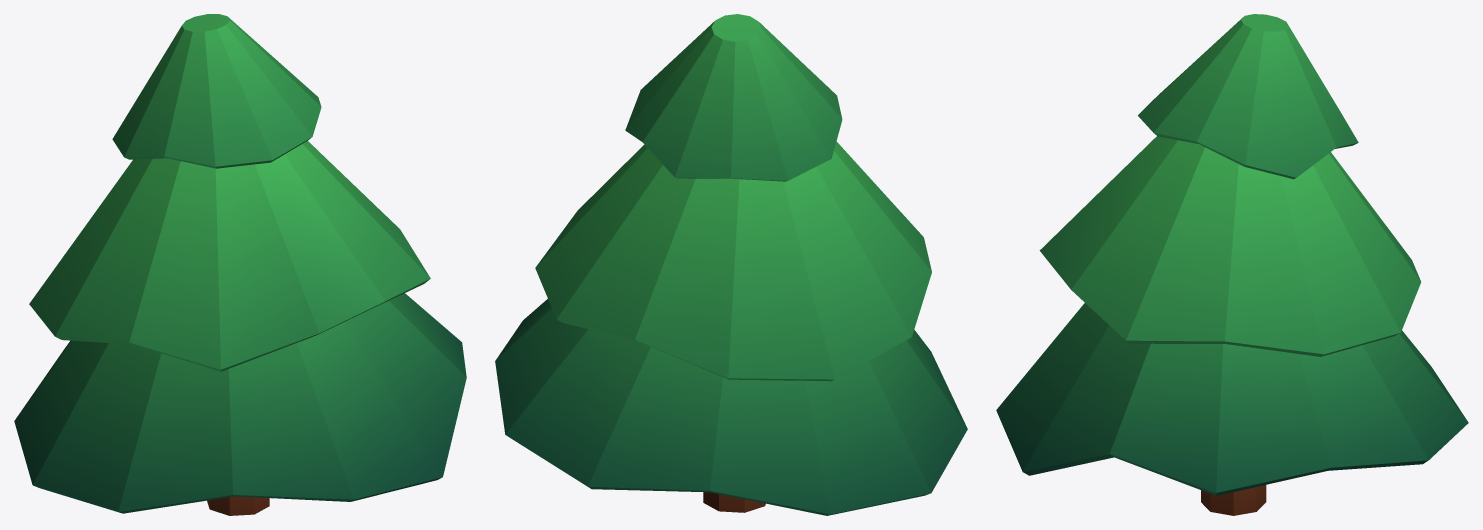
File: pohon 1.fbx
3 renders of one model, left to right at view 1: azimuth 30°, elevation 25°; view 2: azimuth 150°, elevation 25°; view 3: azimuth 270°, elevation 25°, orthographic. The views are drawn at different scales.
Visible parts, largest first — view 1: pohon 1; view 2: pohon 1; view 3: pohon 1.
Part boxes in pixels (x1,y1,x2,y2): pohon 1: (14,14,466,515); pohon 1: (495,14,967,515); pohon 1: (996,14,1468,515).
Size of the model in its own units: 2.44 by 2.69 by 2.43.
